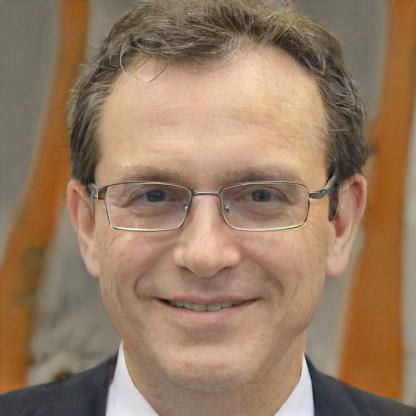glasses: (96, 172, 323, 240)
